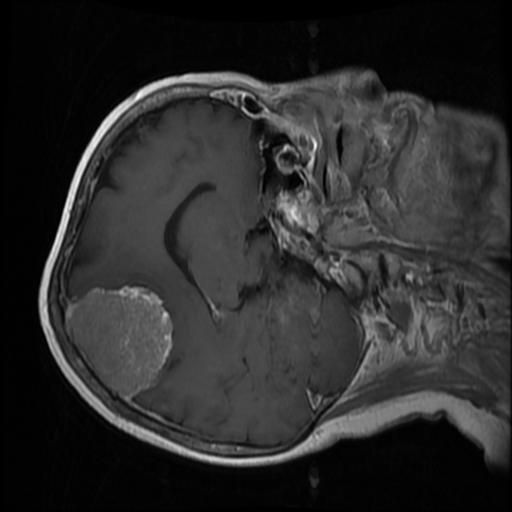meningioma: (65, 284, 172, 399)
